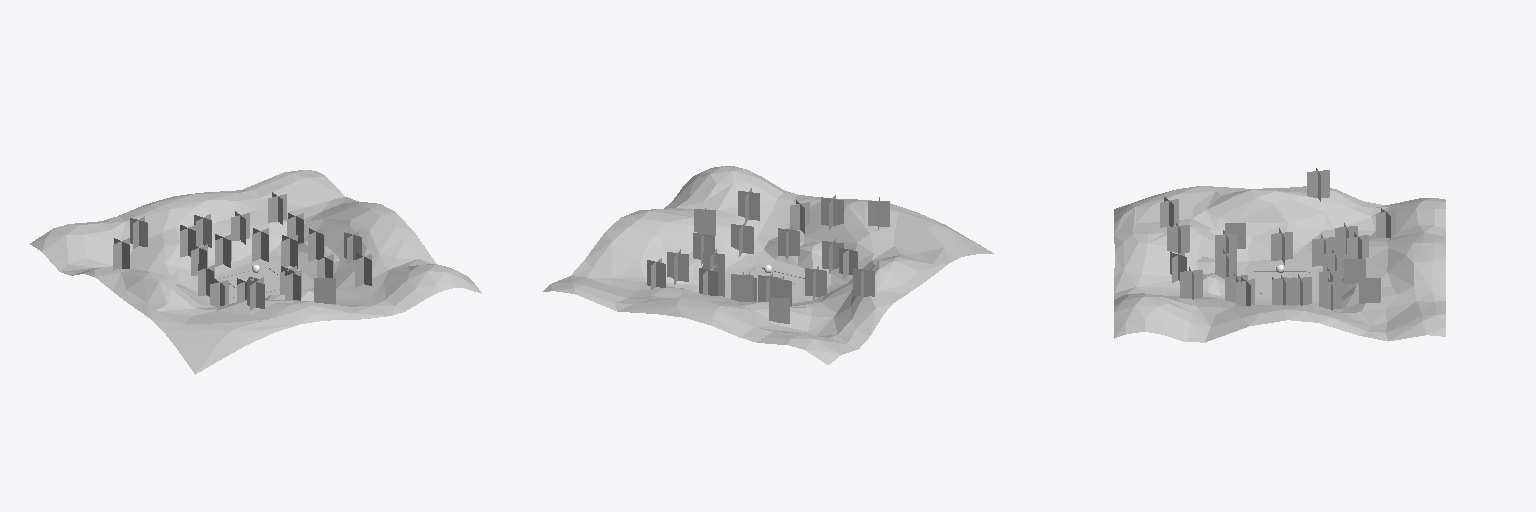
The picture shows the model from 3 angles: view 1: azimuth 30°, elevation 25°; view 2: azimuth 150°, elevation 25°; view 3: azimuth 270°, elevation 25°; orthographic projection.
Parts seen in each view (by area): view 1: Grass, tree_large.007, treePine_large.011; view 2: Grass, treePine_large.004, treePine_large.005, treePine_large.001, treePine_large.016, treePine_large.010, treePine_large.006, treePine_large.007, treePine_large.002, tree_large.006, treePine_large.013, tree_large.001 (+1 smaller); view 3: Grass, treePine_large.006, treePine_large.016, treePine_large.002, treePine_large.008, treePine_large.010, treePine_large.004, tree_large.002, tree_large.003.
Boxes of the visible parts, x1=… form: Grass: x1=30, y1=170, x2=481, y2=374; tree_large.007: x1=314, y1=277, x2=335, y2=303; treePine_large.011: x1=252, y1=228, x2=268, y2=261; Grass: x1=543, y1=166, x2=993, y2=364; treePine_large.004: x1=821, y1=195, x2=843, y2=230; treePine_large.005: x1=731, y1=221, x2=753, y2=256; treePine_large.001: x1=731, y1=272, x2=753, y2=301; treePine_large.016: x1=853, y1=266, x2=874, y2=300; treePine_large.010: x1=667, y1=249, x2=688, y2=284; treePine_large.006: x1=738, y1=188, x2=759, y2=222; treePine_large.007: x1=778, y1=225, x2=799, y2=260; treePine_large.002: x1=805, y1=266, x2=826, y2=299; tree_large.006: x1=868, y1=197, x2=889, y2=229; treePine_large.013: x1=758, y1=272, x2=780, y2=301; tree_large.001: x1=694, y1=208, x2=715, y2=235; Grass: x1=1114, y1=186, x2=1445, y2=342; treePine_large.006: x1=1180, y1=267, x2=1202, y2=299; treePine_large.016: x1=1307, y1=168, x2=1329, y2=201; treePine_large.002: x1=1271, y1=228, x2=1292, y2=264; treePine_large.008: x1=1272, y1=275, x2=1294, y2=304; treePine_large.010: x1=1319, y1=278, x2=1341, y2=310; treePine_large.004: x1=1167, y1=223, x2=1189, y2=253; tree_large.002: x1=1359, y1=278, x2=1380, y2=303; tree_large.003: x1=1376, y1=208, x2=1395, y2=238.
Bounding box in the file's own units: 38.04 × 7.28 × 38.05.